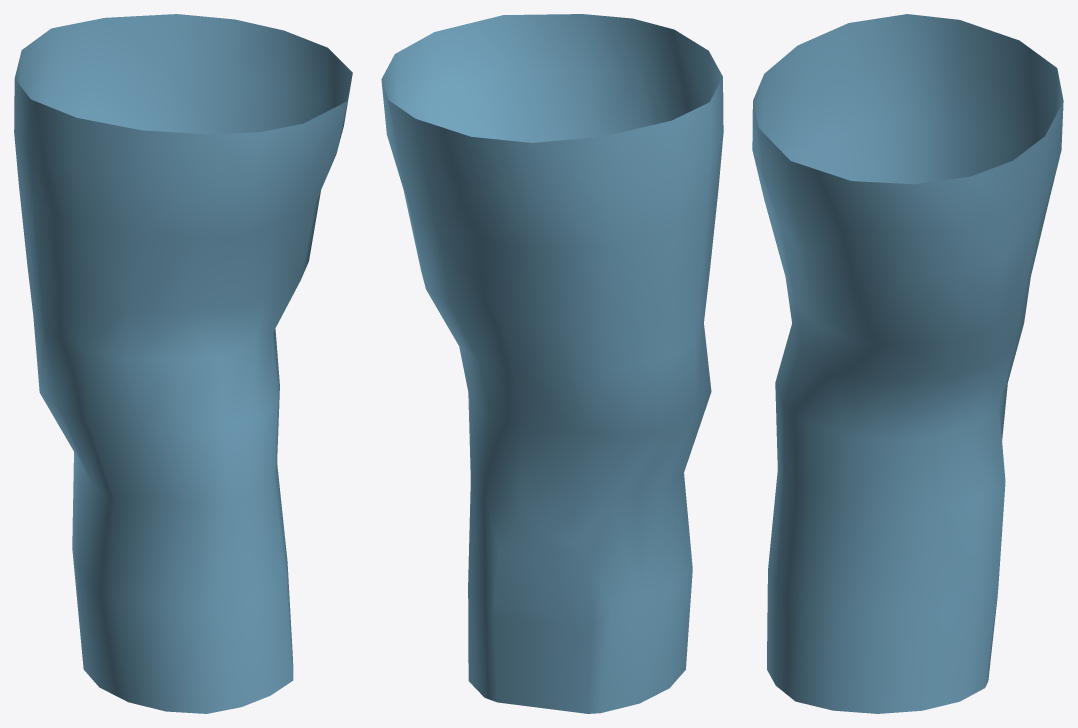
The picture shows the model from 3 angles, left to right: view 1: azimuth 30°, elevation 25°; view 2: azimuth 150°, elevation 25°; view 3: azimuth 270°, elevation 25°; orthographic projection. The views are drawn at different scales.
Visible parts, largest first — view 1: Object_9; view 2: Object_9; view 3: Object_9.
Boxes of the visible parts, left/top/right/bottom form: Object_9: left=14, top=14, right=352, bottom=713; Object_9: left=381, top=14, right=723, bottom=713; Object_9: left=752, top=14, right=1063, bottom=713.
Bounding box in the file's own units: 22.1 × 41.3 × 19.83.
